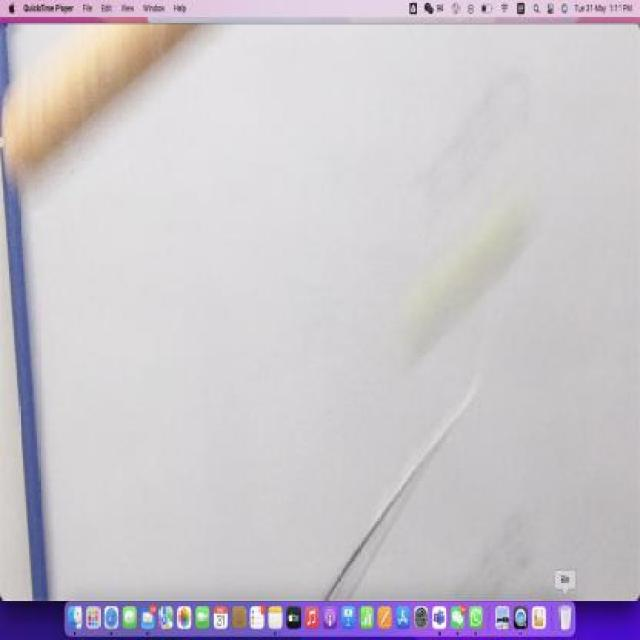baseball: (390, 199, 548, 372)
